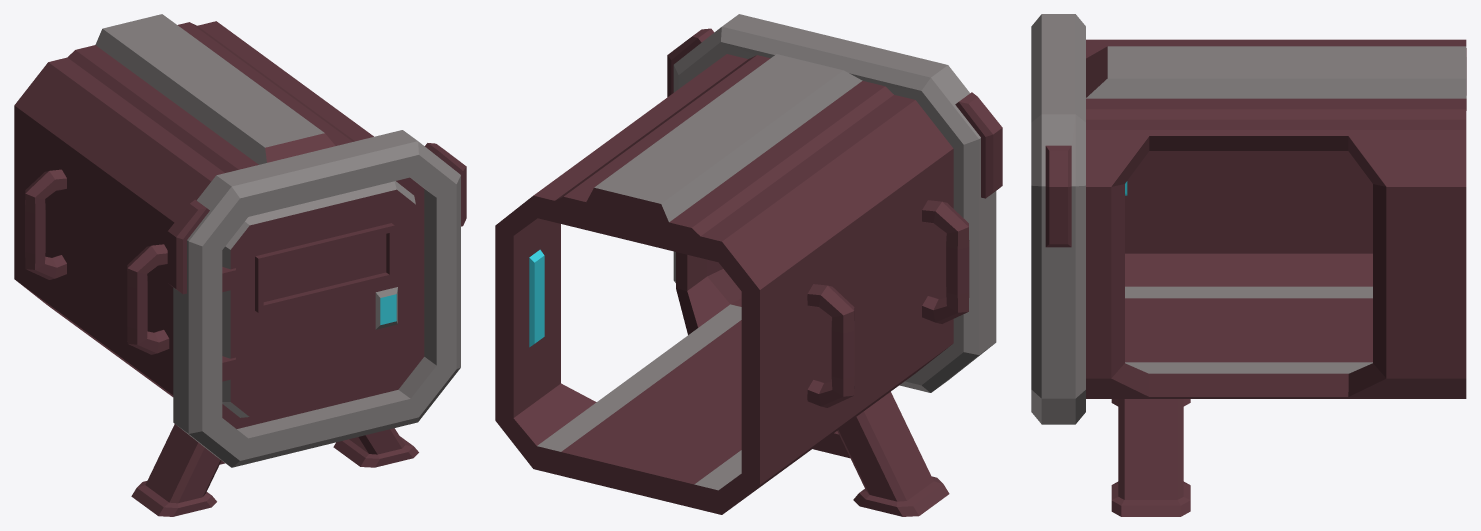
Rendered from scifi-planet-base-hall-one-start.fbx.
3 renders of one model, left to right at view 1: azimuth 30°, elevation 25°; view 2: azimuth 150°, elevation 25°; view 3: azimuth 270°, elevation 25°, orthographic. The views are drawn at different scales.
Visible parts, largest first — view 1: scifi-planet-base-hall-one-start; view 2: scifi-planet-base-hall-one-start; view 3: scifi-planet-base-hall-one-start.
Part boxes in pixels (bbox=[...]): scifi-planet-base-hall-one-start: bbox=[14, 14, 466, 516]; scifi-planet-base-hall-one-start: bbox=[495, 14, 1002, 516]; scifi-planet-base-hall-one-start: bbox=[1031, 14, 1466, 516].
Bounding box in the file's own units: 3.51 × 3.9 × 4.
